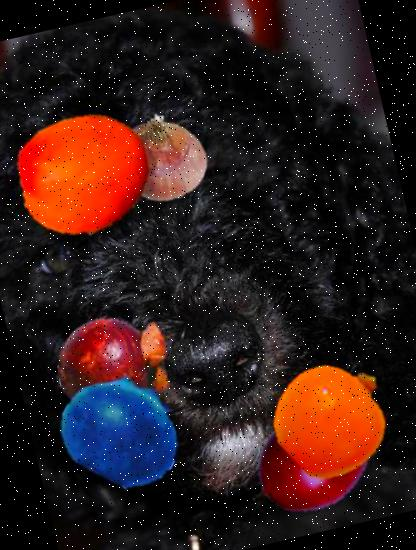Apricot: (3, 92, 166, 255)
Huckleberry: (49, 358, 194, 504)
Mangostan: (44, 292, 192, 440)
Onion: (105, 100, 218, 213)
Physalis: (263, 345, 405, 486)
Tamarillo: (228, 380, 391, 544)
